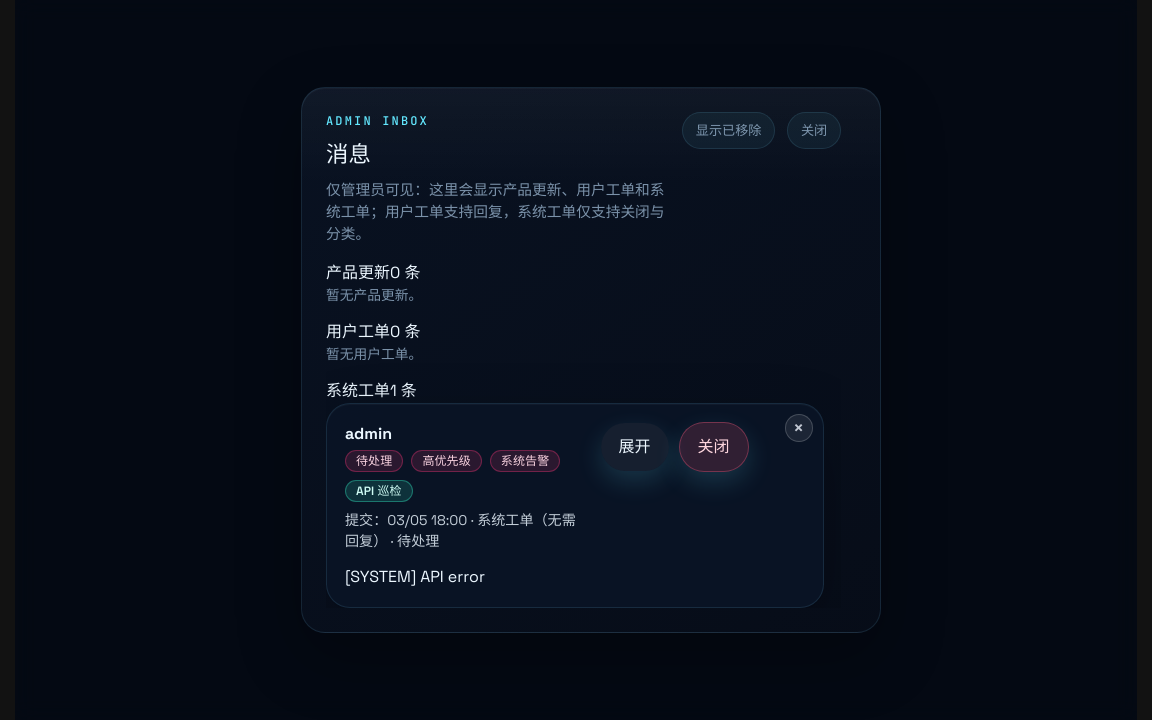
Feedback dialogs policy rendering › hides reply editor for system feedback in admin inbox
Click the button "展开".
click(635, 447)  # box [601,423,669,471]
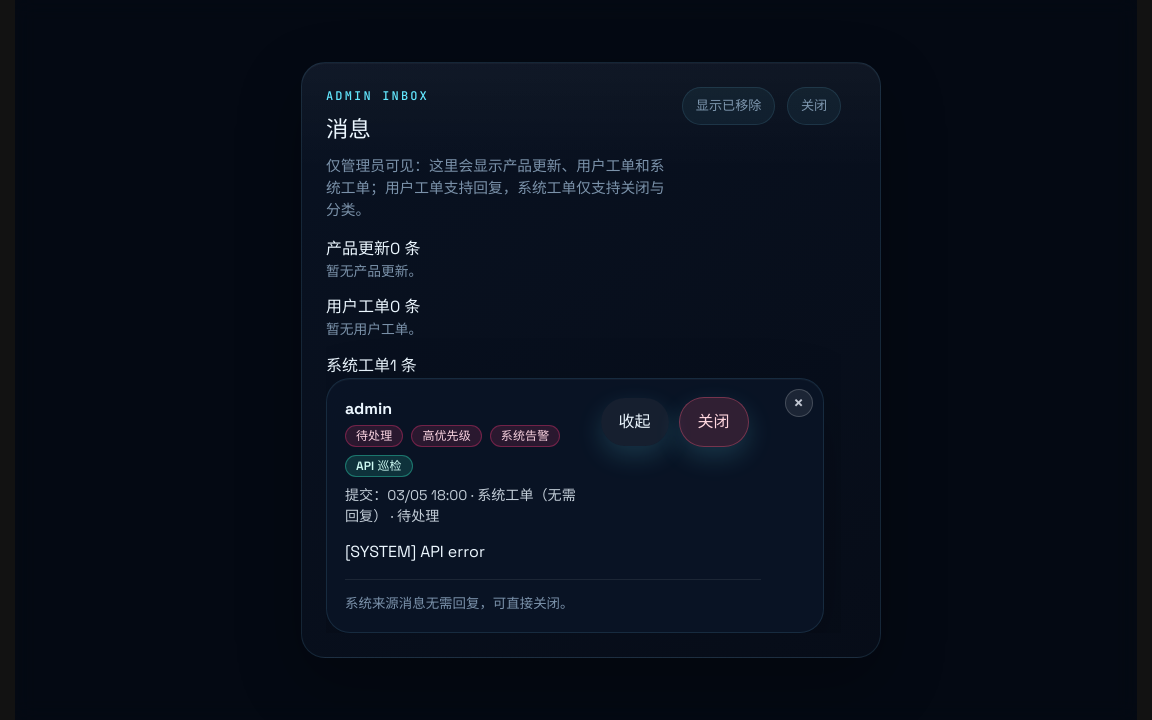
Check: the text "系统来源消息无需回复，可直接关闭。" is shown, box [345,594,574,614]
